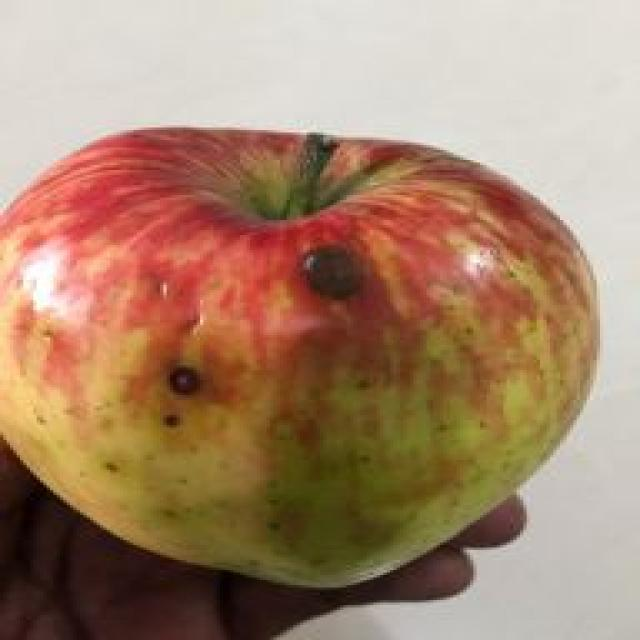Bad_Apple: (3, 128, 598, 586)
